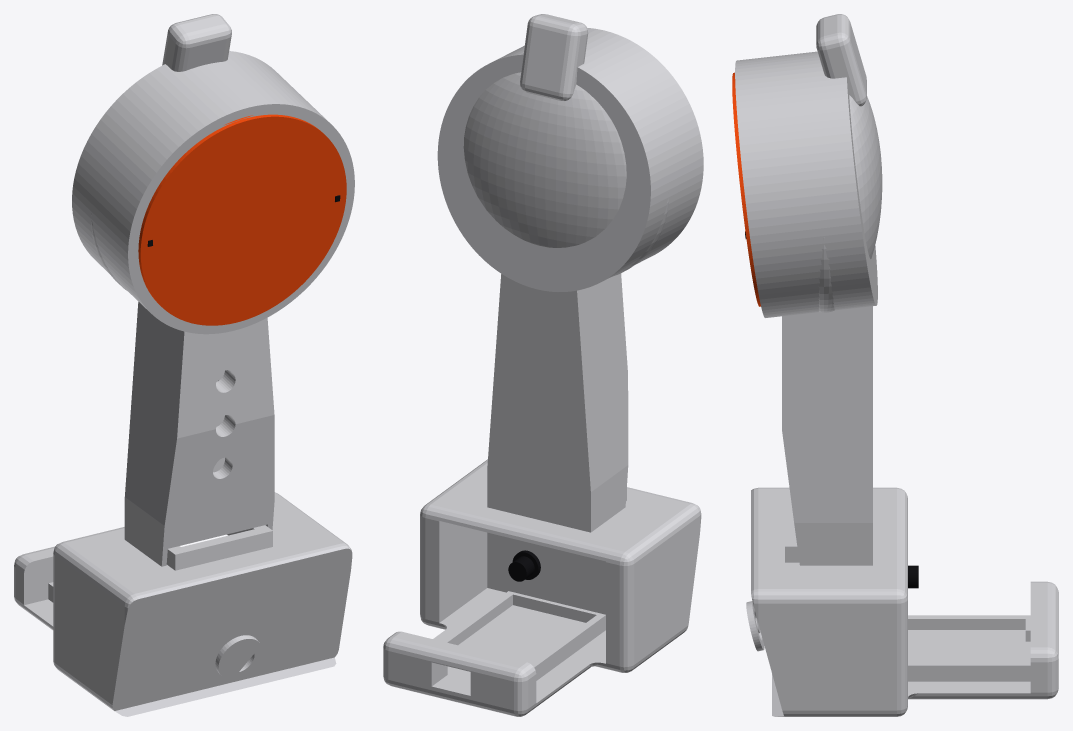
The model's file is StudySense_Complete_Assembly.obj.
3 views of the same model, side by side, from view 1: azimuth 30°, elevation 25°; view 2: azimuth 150°, elevation 25°; view 3: azimuth 270°, elevation 25° (orthographic). The views are drawn at different scales.
Visible parts, largest first — view 1: 02_Neck_and_Head_Shell, 01_Base_Lower_Stand, 04_Accent_Ring_Orange; view 2: 02_Neck_and_Head_Shell, 01_Base_Lower_Stand, 05_Button_Cap; view 3: 02_Neck_and_Head_Shell, 01_Base_Lower_Stand, 04_Accent_Ring_Orange.
Part boxes in pixels (x1,y1,x2,y2): 02_Neck_and_Head_Shell: (72,14,354,566); 01_Base_Lower_Stand: (14,492,352,716); 04_Accent_Ring_Orange: (138,114,346,325); 02_Neck_and_Head_Shell: (437,14,703,532); 01_Base_Lower_Stand: (383,459,701,716); 05_Button_Cap: (508,550,540,581); 02_Neck_and_Head_Shell: (735,14,882,565); 01_Base_Lower_Stand: (746,487,1058,716); 04_Accent_Ring_Orange: (732,72,760,306).
Bounding box in the file's own units: 74 × 202 × 93.22.
